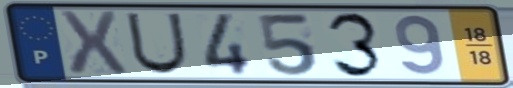3: (320, 10, 384, 80)
4: (201, 11, 253, 78)
5: (254, 11, 322, 78)
9: (391, 13, 449, 79)
U: (123, 11, 190, 77)
X: (55, 8, 132, 78)
